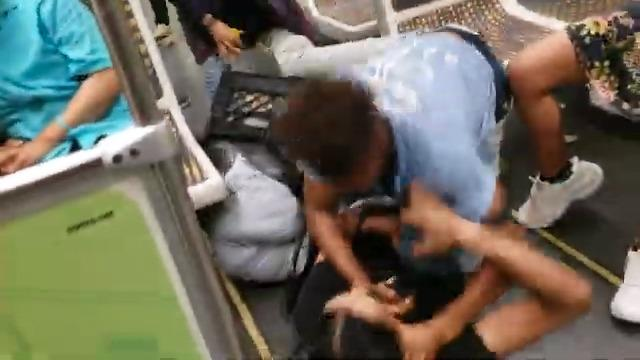non-violence: (507, 4, 640, 331), (0, 0, 131, 167), (168, 0, 321, 111)
violence: (267, 28, 589, 360)
